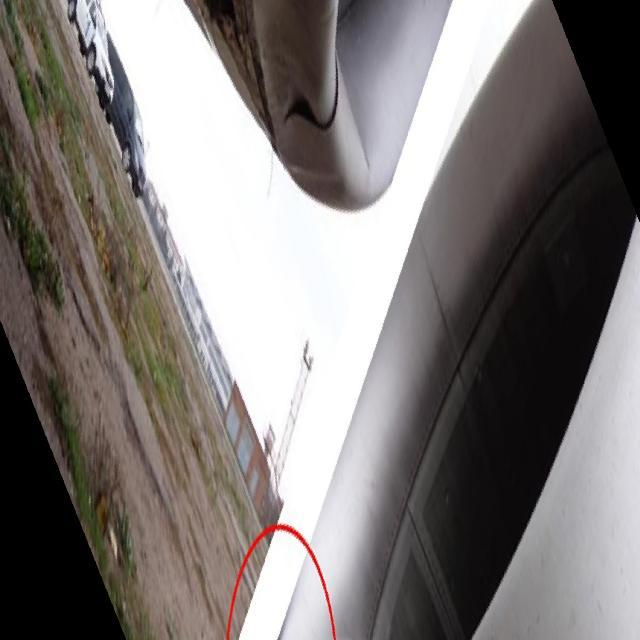crack: (286, 84, 335, 146)
